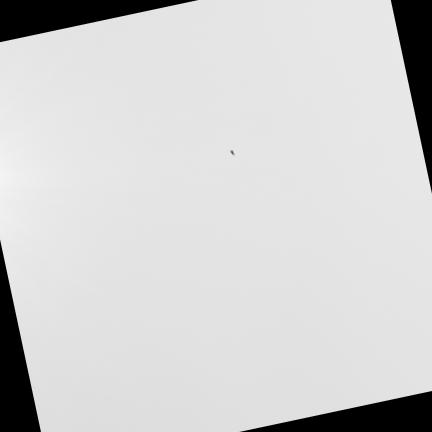Shahed: (230, 150, 234, 155)
